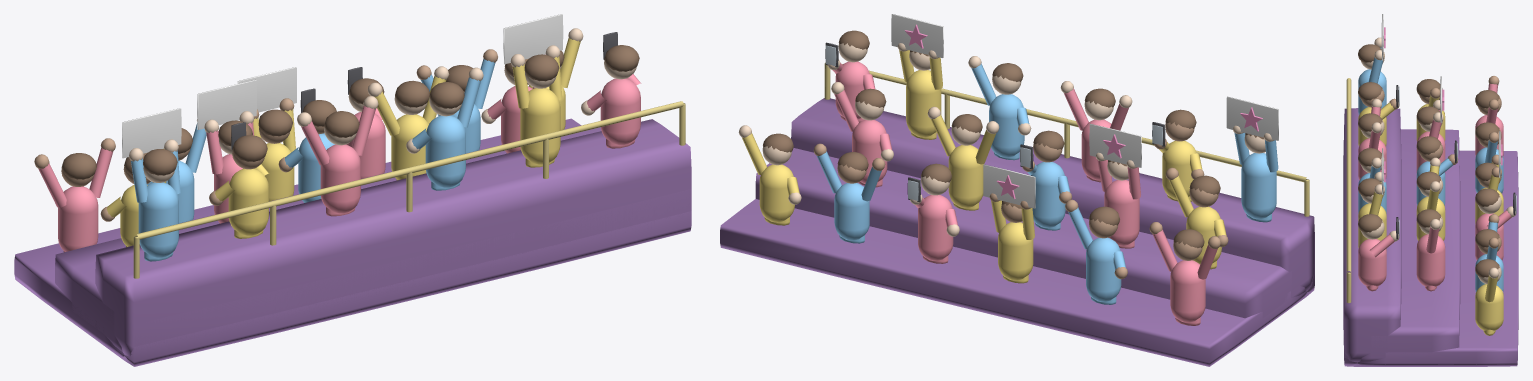
Rendered from SlaparazziCrowd.glb.
3 views of the same model, side by side, from view 1: azimuth 30°, elevation 25°; view 2: azimuth 150°, elevation 25°; view 3: azimuth 270°, elevation 25° (orthographic). The views are drawn at different scales.
Visible parts, largest first — view 1: Riser, ShirtA, ShirtC, ShirtB, Hair, Sign, Rail, SkinA, SkinB, Phone; view 2: Riser, ShirtC, ShirtB, ShirtA, Sign, Hair, SkinA, SkinB, Rail, SignStar, Screen, Phone; view 3: Riser, Hair, ShirtA, ShirtC, ShirtB, SkinA, SkinB, Rail, Sign, Phone, SignStar.
Part boxes in pixels (<box>): Riser: <box>14,118,691,366</box>; ShirtA: <box>38,54,641,252</box>; ShirtC: <box>106,38,580,247</box>; ShirtB: <box>131,58,495,261</box>; Hair: <box>61,45,639,179</box>; Sign: <box>122,14,563,158</box>; Rail: <box>133,101,685,278</box>; SkinA: <box>129,28,636,182</box>; SkinB: <box>34,49,497,221</box>; Phone: <box>231,32,617,150</box>; Riser: <box>720,98,1314,366</box>; ShirtC: <box>742,50,1226,283</box>; ShirtB: <box>816,63,1278,304</box>; ShirtA: <box>832,61,1217,325</box>; Sign: <box>891,14,1278,208</box>; Hair: <box>763,30,1263,248</box>; SkinA: <box>738,43,1274,236</box>; SkinB: <box>813,122,1228,279</box>; Rail: <box>824,62,1309,216</box>; SignStar: <box>905,24,1262,199</box>; Screen: <box>825,45,1162,200</box>; Phone: <box>825,42,1165,202</box>; Riser: <box>1343,108,1518,366</box>; Hair: <box>1358,44,1499,277</box>; ShirtA: <box>1358,83,1511,291</box>; ShirtC: <box>1358,95,1503,335</box>; ShirtB: <box>1358,47,1503,291</box>; SkinA: <box>1360,37,1516,293</box>; SkinB: <box>1360,76,1501,254</box>; Rail: <box>1346,78,1351,302</box>; Sign: <box>1381,14,1500,194</box>; Phone: <box>1396,85,1515,239</box>; SignStar: <box>1384,27,1502,182</box>.
Bounding box in the file's own units: 16 × 6.15 × 6.
